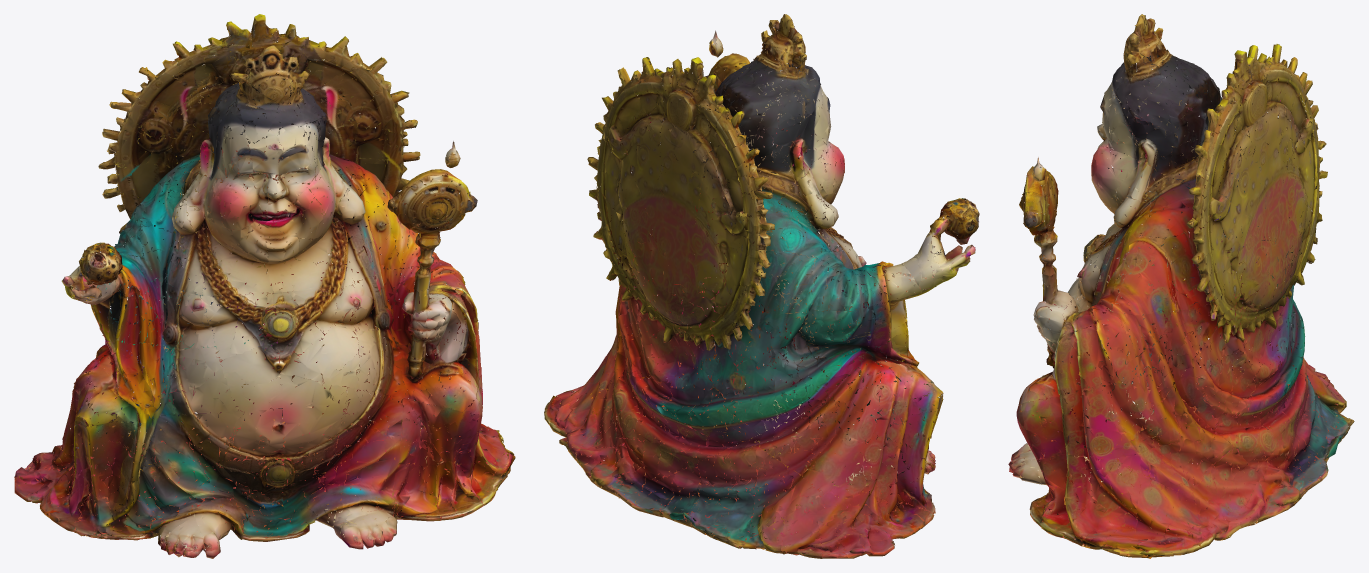
The picture shows the model from 3 angles, left to right: view 1: azimuth 30°, elevation 25°; view 2: azimuth 150°, elevation 25°; view 3: azimuth 270°, elevation 25°; orthographic projection. The views are drawn at different scales.
Parts seen in each view (by area): view 1: statue-037; view 2: statue-037; view 3: statue-037.
Boxes of the visible parts, left/top/right/bottom form: statue-037: left=14, top=14, right=515, bottom=558; statue-037: left=544, top=14, right=979, bottom=558; statue-037: left=1008, top=14, right=1354, bottom=558.
Bounding box in the file's own units: 0.9885 × 1 × 0.7134.
Materials: 1 (1 with a texture image).
